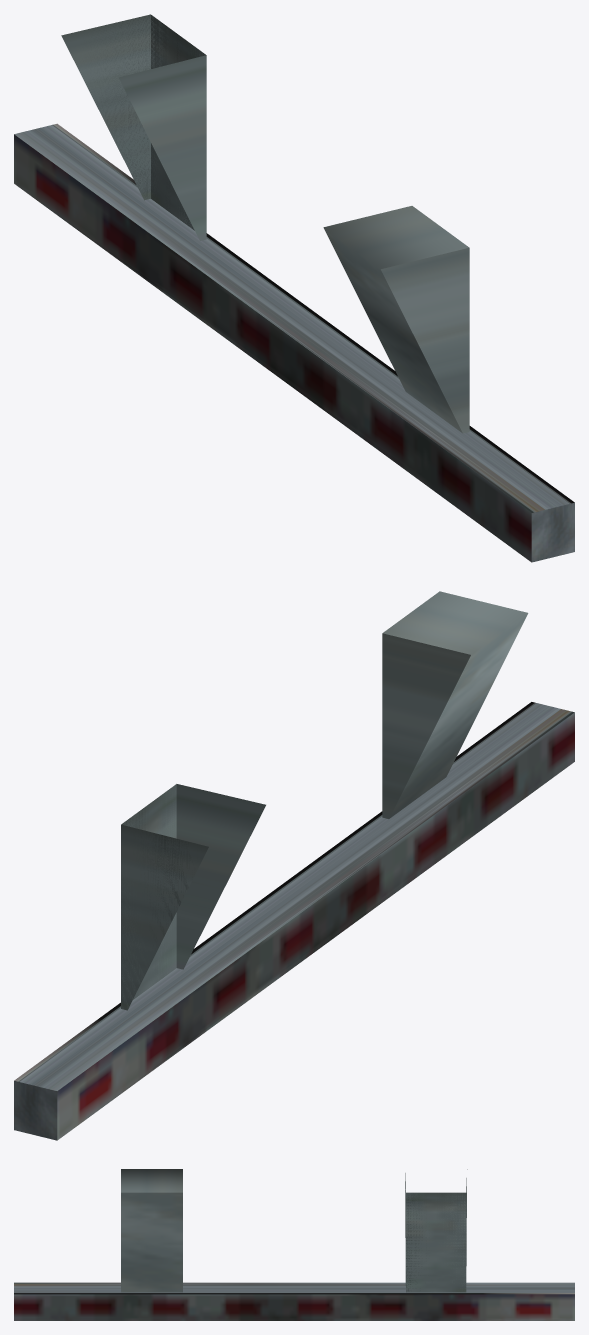
Rendered from Shared - Ground Vehicles - Big Rig - Damage State 37 - CVBigRig_d37.glb.
3 views of the same model, one above another, from view 1: azimuth 30°, elevation 25°; view 2: azimuth 150°, elevation 25°; view 3: azimuth 270°, elevation 25° (orthographic). The views are drawn at different scales.
Parts seen in each view (by area): view 1: CVBIGRIG_D37; view 2: CVBIGRIG_D37; view 3: CVBIGRIG_D37.
Boxes of the visible parts, x1,y1,x2,y2 form: CVBIGRIG_D37: (14,14,574,562); CVBIGRIG_D37: (14,591,574,1140); CVBIGRIG_D37: (14,1169,574,1320).
Size of the model in its own units: 1.2 by 2.8 by 11.26.
Materials: 1 (1 with a texture image).
